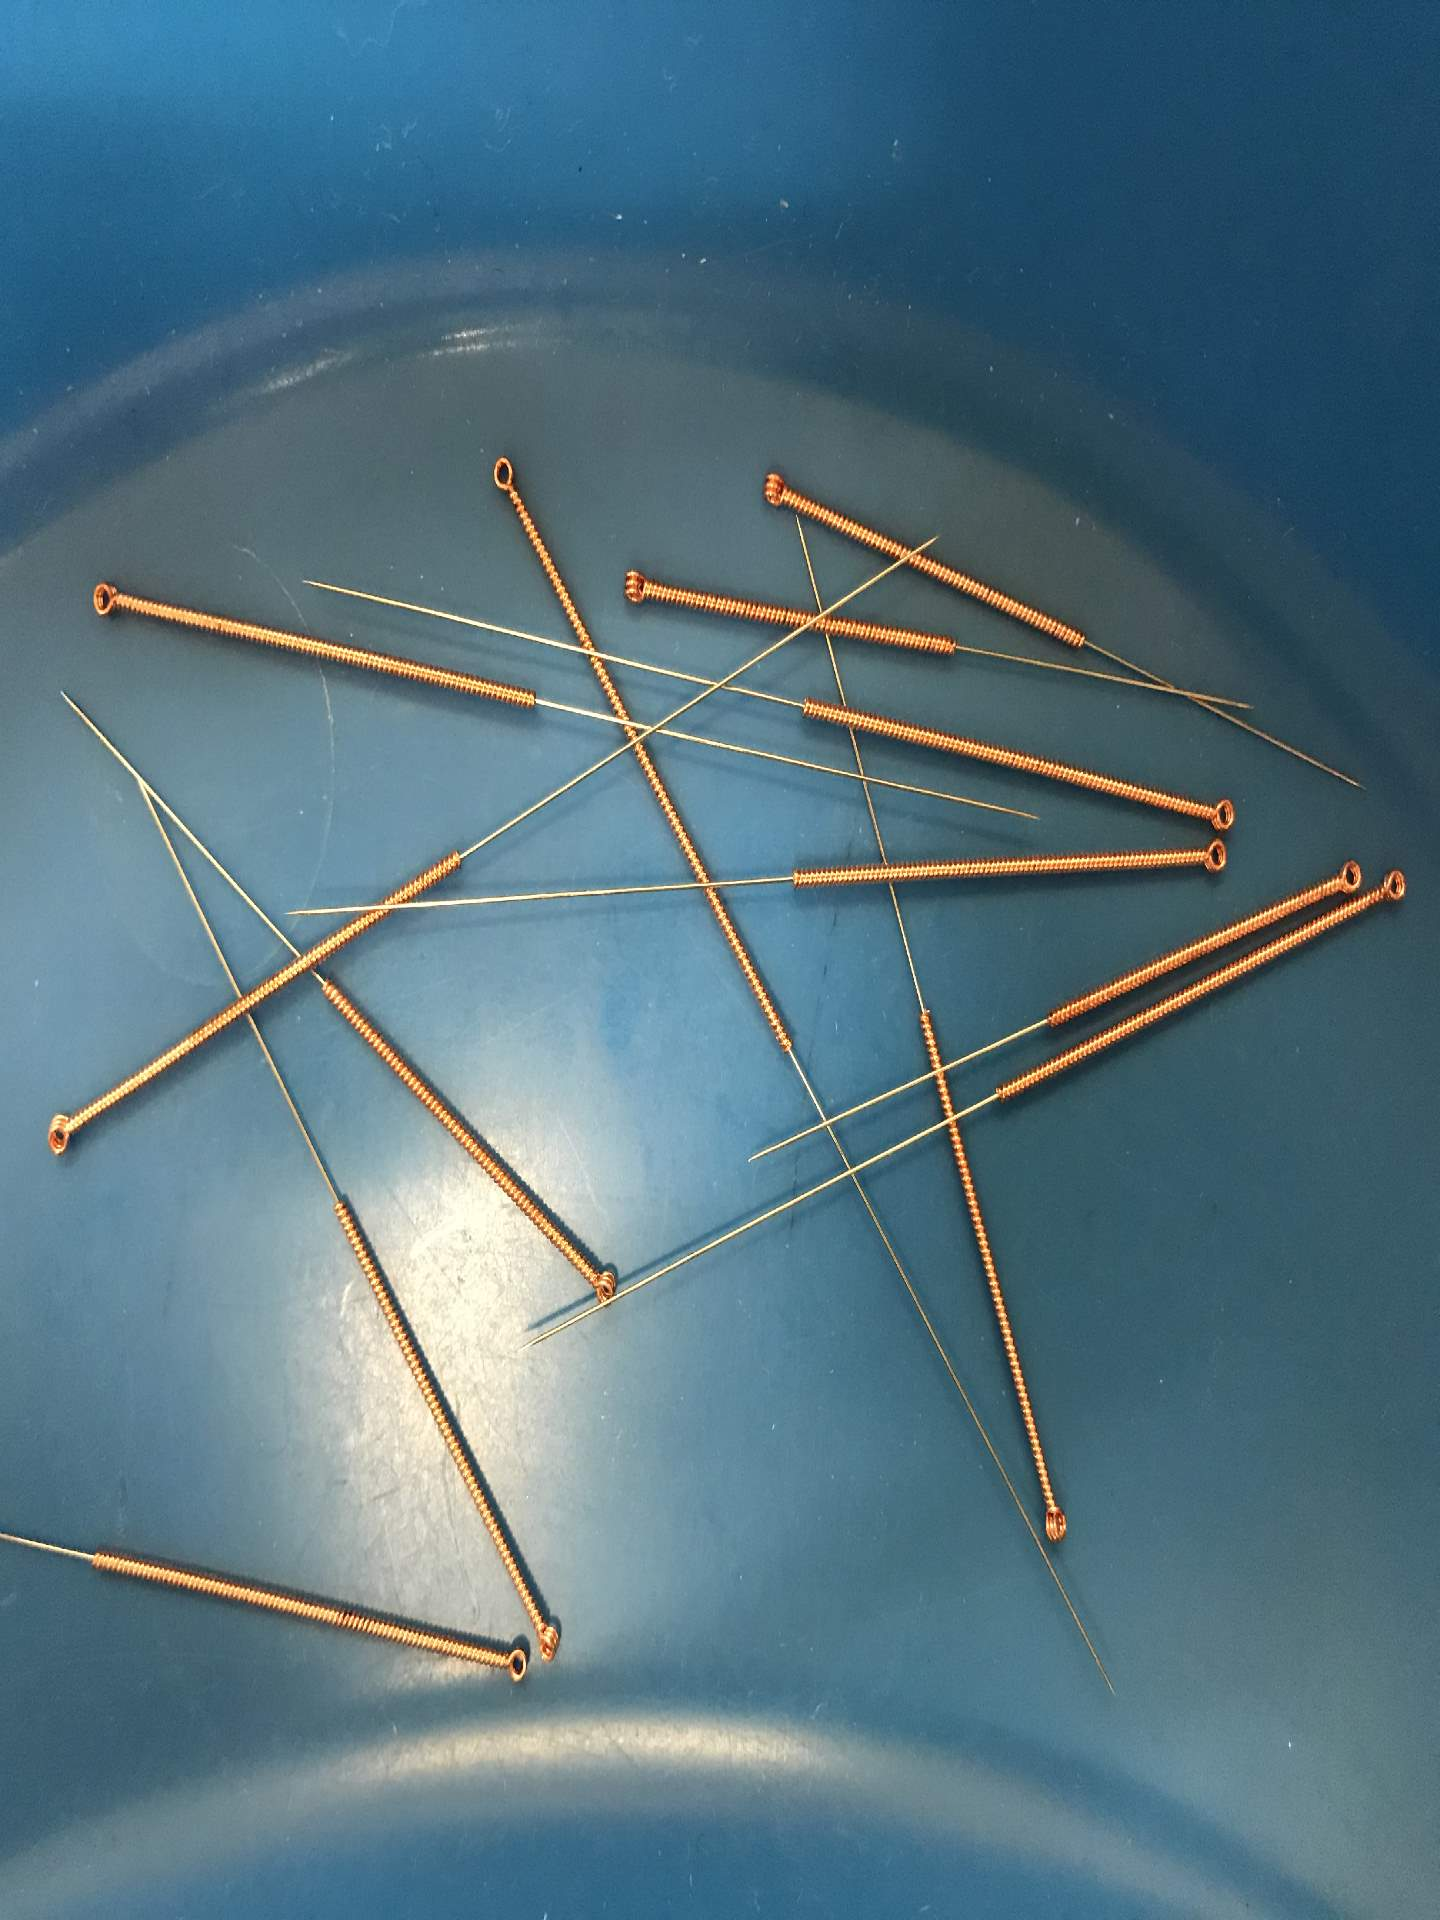needle: (479, 441, 531, 516), (32, 1101, 88, 1166), (1029, 1488, 1080, 1557), (76, 570, 133, 627), (529, 1606, 579, 1671), (573, 1252, 625, 1314), (610, 556, 661, 618), (743, 463, 800, 517), (1366, 856, 1416, 918), (484, 1630, 534, 1686), (1187, 833, 1237, 880), (1196, 794, 1246, 838), (1324, 856, 1367, 897)
